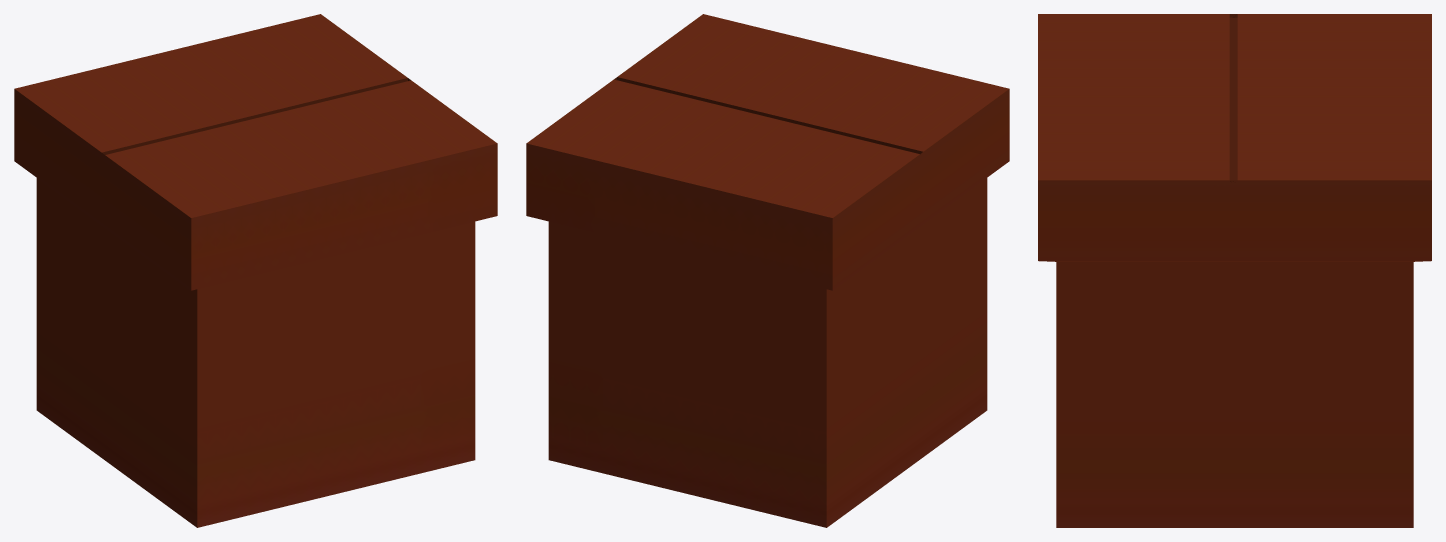
The model's file is TabuaNavioPesca.glb.
The picture shows the model from 3 angles, left to right: view 1: azimuth 30°, elevation 25°; view 2: azimuth 150°, elevation 25°; view 3: azimuth 270°, elevation 25°; orthographic projection. The views are drawn at different scales.
Parts seen in each view (by area): view 1: TabuaNavioPesca; view 2: TabuaNavioPesca; view 3: TabuaNavioPesca.
Boxes of the visible parts, box(x1,y1,x2,y2) form: TabuaNavioPesca: box(14, 14, 497, 527); TabuaNavioPesca: box(526, 14, 1009, 527); TabuaNavioPesca: box(1038, 14, 1431, 527).
Size of the model in its own units: 2 by 1.99 by 2.
1 material, 1 textured.
